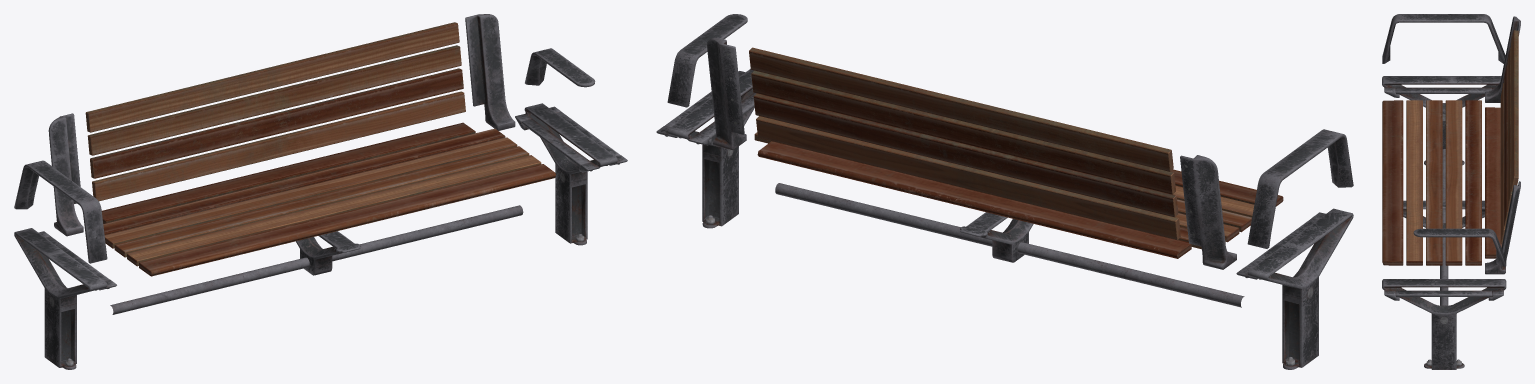
File: urban-bench.glb
3 renders of one model, left to right at view 1: azimuth 30°, elevation 25°; view 2: azimuth 150°, elevation 25°; view 3: azimuth 270°, elevation 25°, orthographic. The views are drawn at different scales.
Visible parts, largest first — view 1: seat, crossbar, legs_double; view 2: seat, crossbar, legs_double; view 3: seat, legs_double, crossbar.
Part boxes in pixels (<box>): seat: <box>85,22,555,276</box>; crossbar: <box>14,14,595,314</box>; legs_double: <box>14,103,627,369</box>; seat: <box>749,47,1283,258</box>; crossbar: <box>667,14,1353,307</box>; legs_double: <box>656,69,1353,369</box>; seat: <box>1382,30,1518,265</box>; legs_double: <box>1382,76,1506,369</box>; crossbar: <box>1382,14,1520,305</box>.
Size of the model in its own units: 2.45 by 0.8669 by 0.6704.
3 materials, 3 textured.
